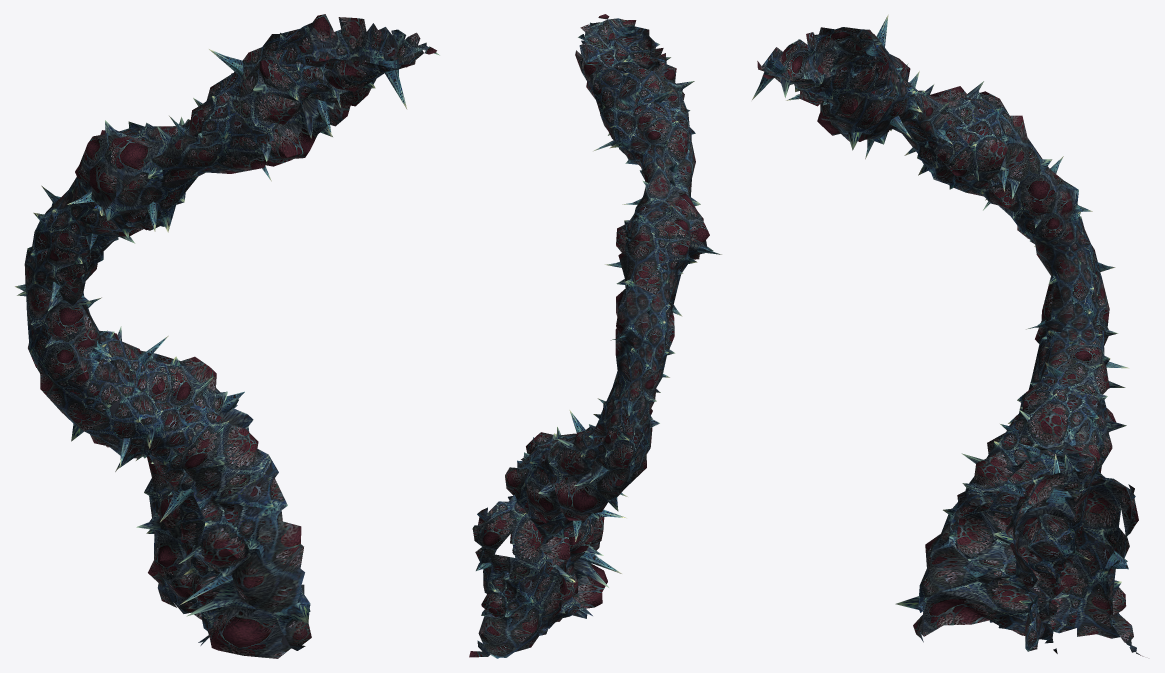
The model's file is 02_Makaijyua.fbx.
3 renders of one model, left to right at view 1: azimuth 30°, elevation 25°; view 2: azimuth 150°, elevation 25°; view 3: azimuth 270°, elevation 25°, orthographic. The views are drawn at different scales.
Parts seen in each view (by area): view 1: LODGroup_3_MainMesh_1_SubMesh_1, LODGroup_3_MainMesh_1_SubMesh_2; view 2: LODGroup_3_MainMesh_1_SubMesh_1, LODGroup_3_MainMesh_1_SubMesh_2; view 3: LODGroup_3_MainMesh_1_SubMesh_1, LODGroup_3_MainMesh_1_SubMesh_2.
Part boxes in pixels (x1,y1,x2,y2): LODGroup_3_MainMesh_1_SubMesh_1: [15, 14, 439, 658]; LODGroup_3_MainMesh_1_SubMesh_2: [24, 29, 436, 650]; LODGroup_3_MainMesh_1_SubMesh_1: [469, 19, 721, 657]; LODGroup_3_MainMesh_1_SubMesh_2: [472, 14, 713, 658]; LODGroup_3_MainMesh_1_SubMesh_1: [752, 14, 1143, 656]; LODGroup_3_MainMesh_1_SubMesh_2: [757, 27, 1138, 651].
Size of the model in its own units: 599 by 1375 by 825.
